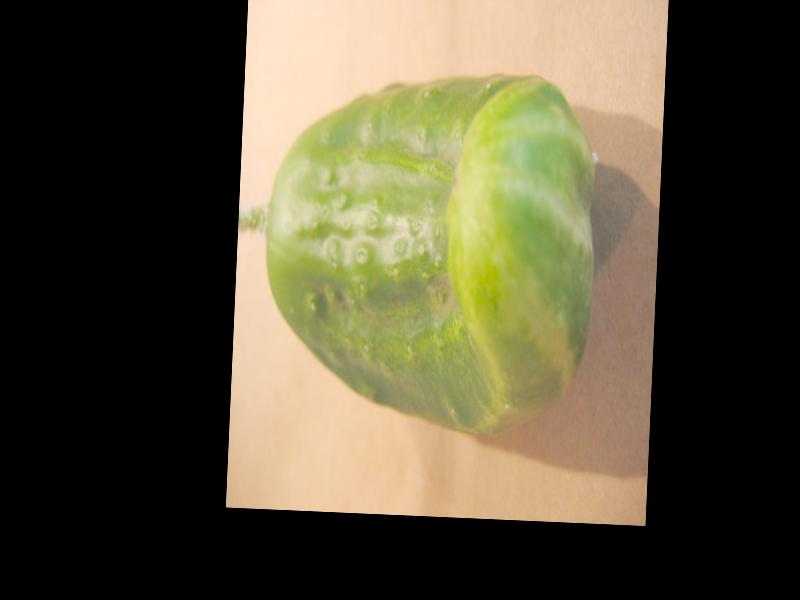Cucumber: (256, 60, 601, 434)
